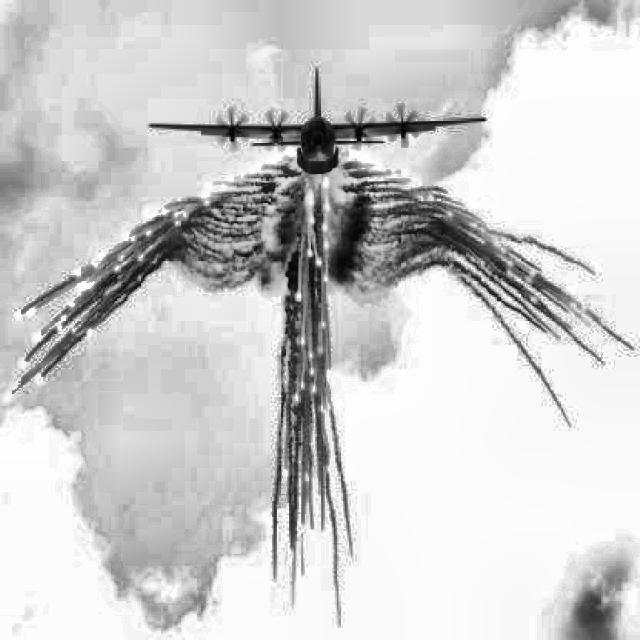C130: (148, 66, 488, 174)
